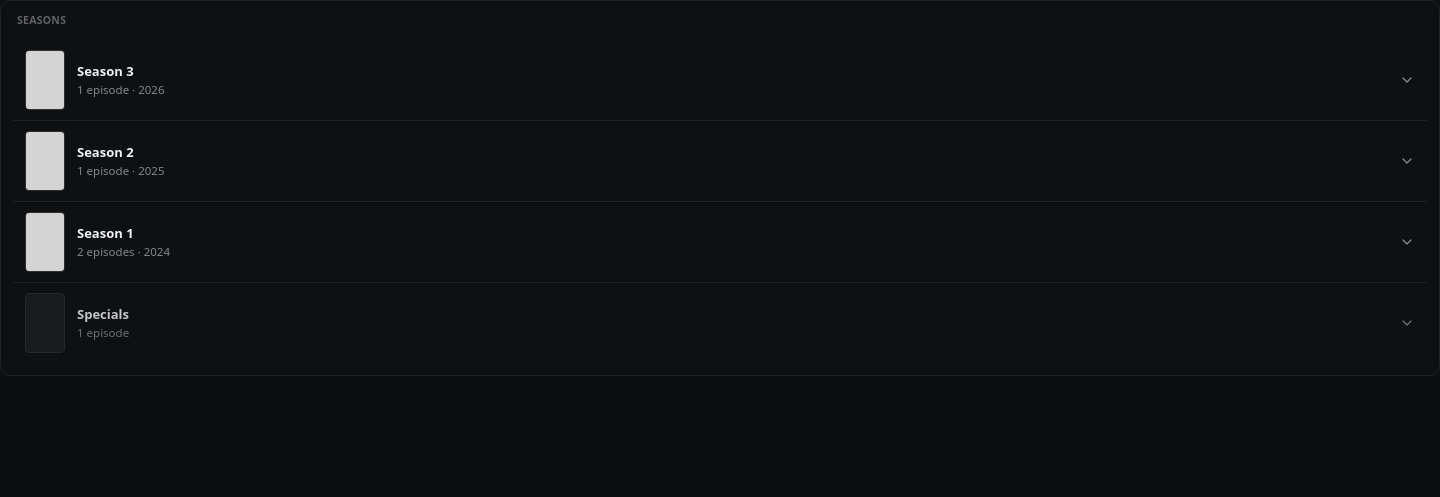
Test: <SeasonsAccordion /> › expands and renders episodes (lazy fetch overrides composite payload)
The width and height of the screenshot is (1440, 497).
Step 1. Click the button "Season 3 1 episode · 2026" → {"x": 45, "y": 80}, box [13,40,1427,120]
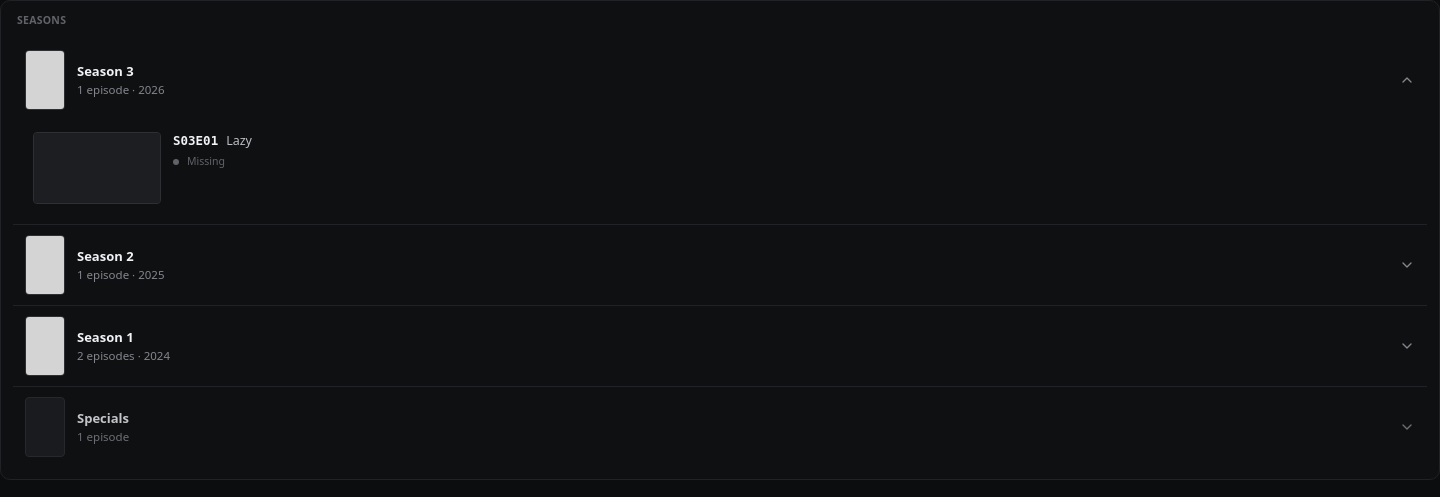
Check: the text "Lazy" is shown, box [226,132,252,150]
